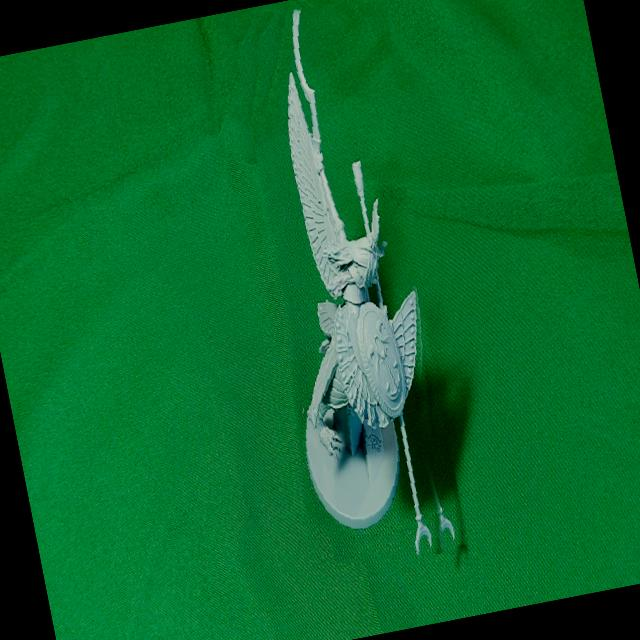isis: (218, 0, 480, 573)
